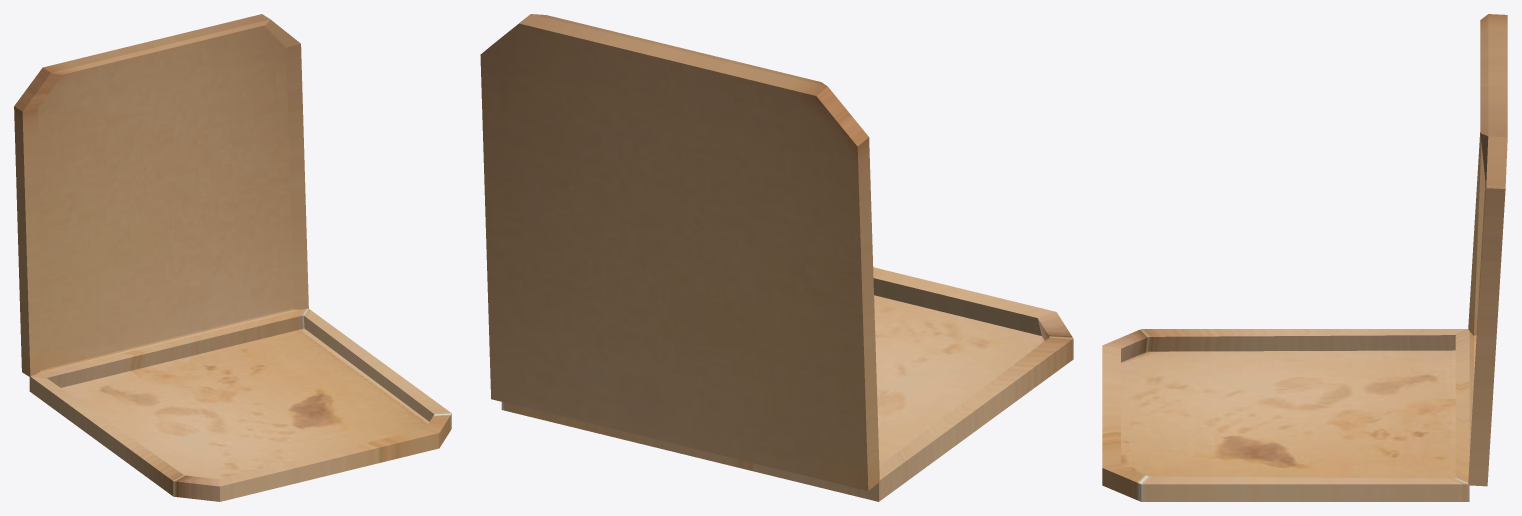
The model's file is Pizza Pack.fbx.
3 renders of one model, left to right at view 1: azimuth 30°, elevation 25°; view 2: azimuth 150°, elevation 25°; view 3: azimuth 270°, elevation 25°, orthographic. The views are drawn at different scales.
Visible parts, largest first — view 1: Cube; view 2: Cube; view 3: Cube.
Part boxes in pixels (box(x1,y1,x2,y2)): Cube: box(14, 14, 451, 501); Cube: box(480, 14, 1073, 501); Cube: box(1102, 14, 1507, 501).
Size of the model in its own units: 200 by 210 by 221.
